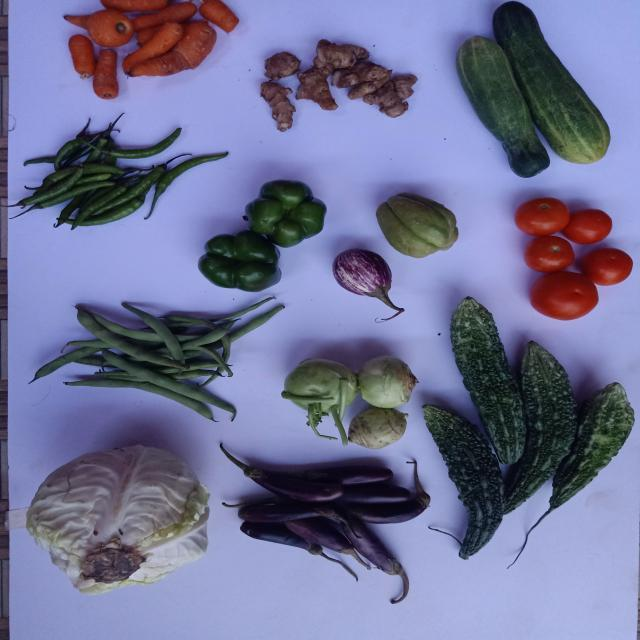Beans: (101, 350, 236, 418), (74, 305, 185, 370), (63, 379, 212, 420), (120, 303, 185, 363), (88, 312, 163, 342), (227, 305, 285, 343)
Bitter Gourd: (531, 383, 635, 531), (451, 297, 527, 465), (423, 405, 505, 560), (505, 341, 577, 515)
Brinjal: (220, 444, 343, 503), (240, 523, 357, 579), (344, 519, 409, 604), (284, 518, 370, 570), (347, 494, 430, 525), (238, 504, 345, 523)
Cabbage: (25, 446, 208, 595)
Capsicum: (194, 227, 283, 295), (245, 180, 326, 247), (16, 165, 83, 205), (38, 180, 114, 208), (79, 195, 144, 226), (52, 135, 91, 170), (44, 165, 79, 181), (81, 163, 125, 174)
Carrot: (129, 20, 215, 75), (121, 21, 182, 72), (63, 8, 133, 46), (131, 1, 196, 30), (198, 0, 238, 32), (92, 48, 117, 99), (67, 33, 94, 78), (99, 0, 168, 11)
Chayote: (366, 187, 464, 261)
Cucumber: (493, 0, 611, 163), (456, 35, 550, 177)
Eggplant: (332, 249, 404, 322)
Ginger: (363, 74, 417, 117), (295, 64, 338, 110), (313, 38, 369, 70), (260, 81, 295, 131), (332, 60, 391, 87), (264, 51, 300, 80), (348, 78, 386, 99)
Green Chilly: (144, 151, 228, 219), (100, 127, 181, 158), (106, 165, 164, 207)
Tomato: (531, 271, 599, 320), (515, 197, 571, 236), (582, 248, 634, 286), (525, 235, 575, 273), (561, 208, 613, 244)
Turnip: (281, 359, 358, 446), (358, 356, 419, 409), (348, 407, 408, 450)
